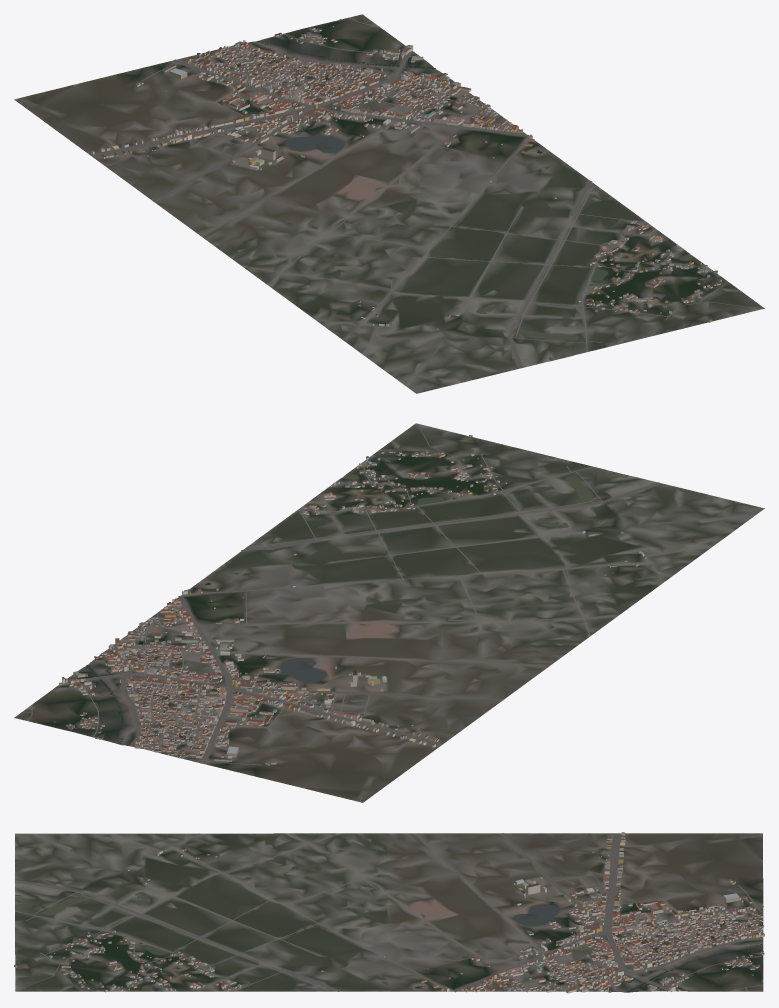
The picture shows the model from 3 angles, top to bottom: view 1: azimuth 30°, elevation 25°; view 2: azimuth 150°, elevation 25°; view 3: azimuth 270°, elevation 25°; orthographic projection. The views are drawn at different scales.
Visible parts, largest first — view 1: ground, buildings, roads, water; view 2: ground, buildings, roads, water; view 3: ground, buildings, roads, water.
Boxes of the visible parts, left/top/right/bottom form: ground: left=14, top=14, right=764, bottom=393; buildings: left=91, top=19, right=721, bottom=329; roads: left=17, top=17, right=762, bottom=368; water: left=258, top=41, right=692, bottom=360; ground: left=14, top=423, right=764, bottom=802; buildings: left=35, top=435, right=646, bottom=765; roads: left=22, top=423, right=661, bottom=801; water: left=86, top=471, right=629, bottom=743; ground: left=15, top=833, right=763, bottom=992; buildings: left=14, top=832, right=764, bottom=993; roads: left=15, top=833, right=763, bottom=992; water: left=15, top=879, right=761, bottom=992.
Size of the model in its own units: 1421 by 37.79 by 2814.
